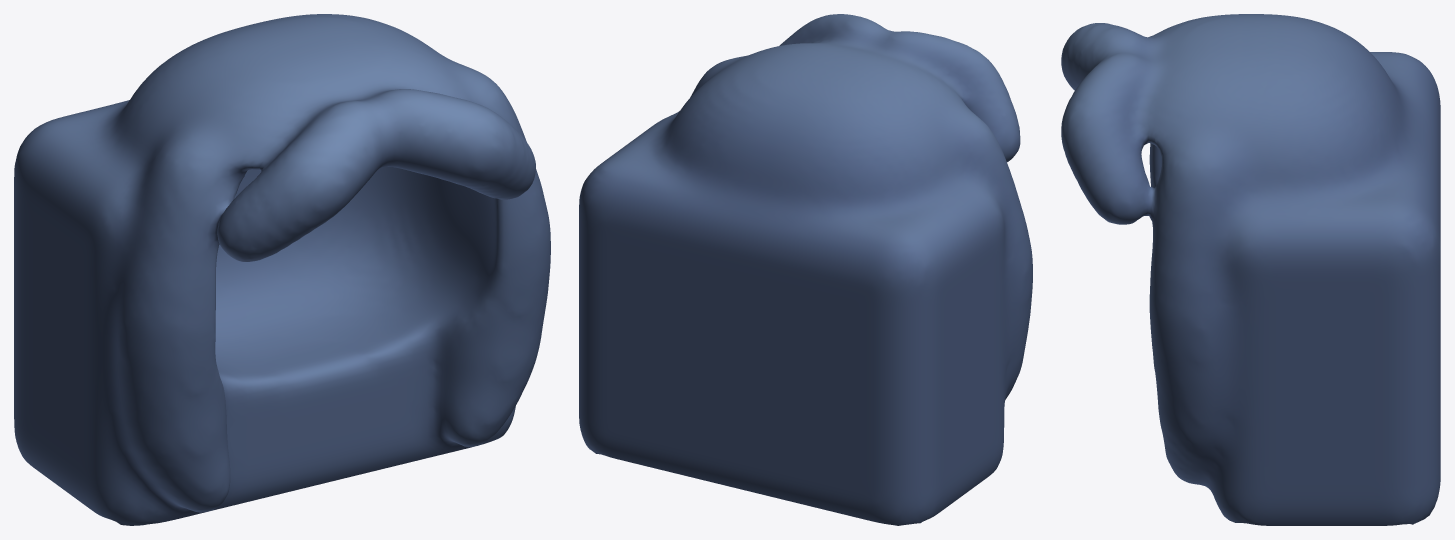
Rendered from hair_kaprodi_f.glb.
3 views of the same model, side by side, from view 1: azimuth 30°, elevation 25°; view 2: azimuth 150°, elevation 25°; view 3: azimuth 270°, elevation 25° (orthographic). The views are drawn at different scales.
Parts seen in each view (by area): view 1: world; view 2: world; view 3: world.
Part boxes in pixels (x1,y1,x2,y2): world: (14, 14, 550, 525); world: (579, 14, 1032, 525); world: (1061, 14, 1440, 525).
Bounding box in the file's own units: 0.7435 × 0.7247 × 0.6311.
